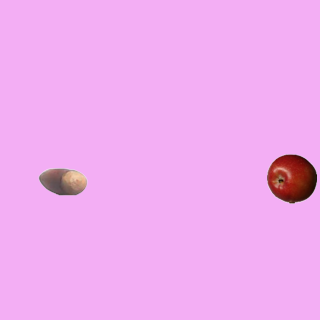Apple Braeburn: (266, 153, 316, 203)
Hazelnut: (37, 156, 87, 206)
